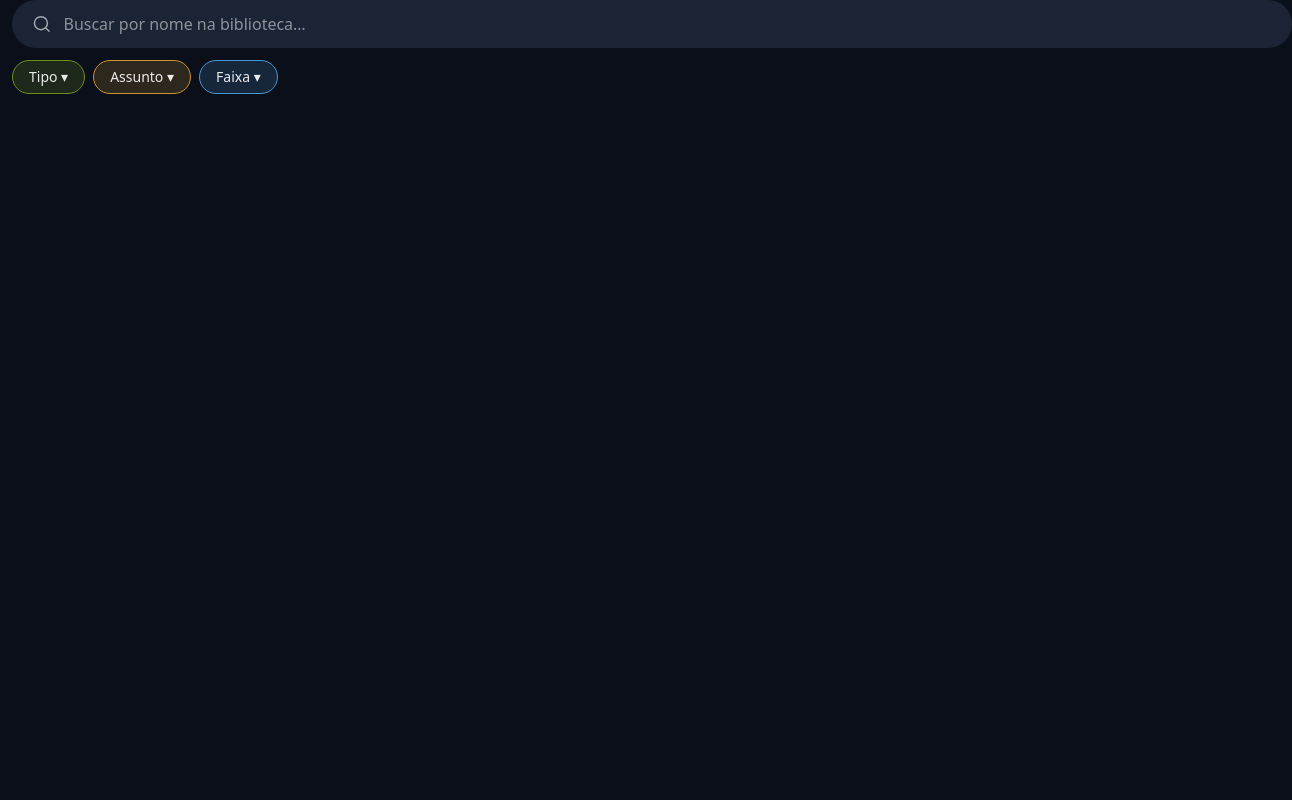
TagFilterBar › o menu fecha ao clicar fora e com Esc; abrir outro tipo fecha o anterior
Step 1. Click the button "Assunto ▾" → [142, 77], box top-left (93, 60), bottom-right (191, 94)
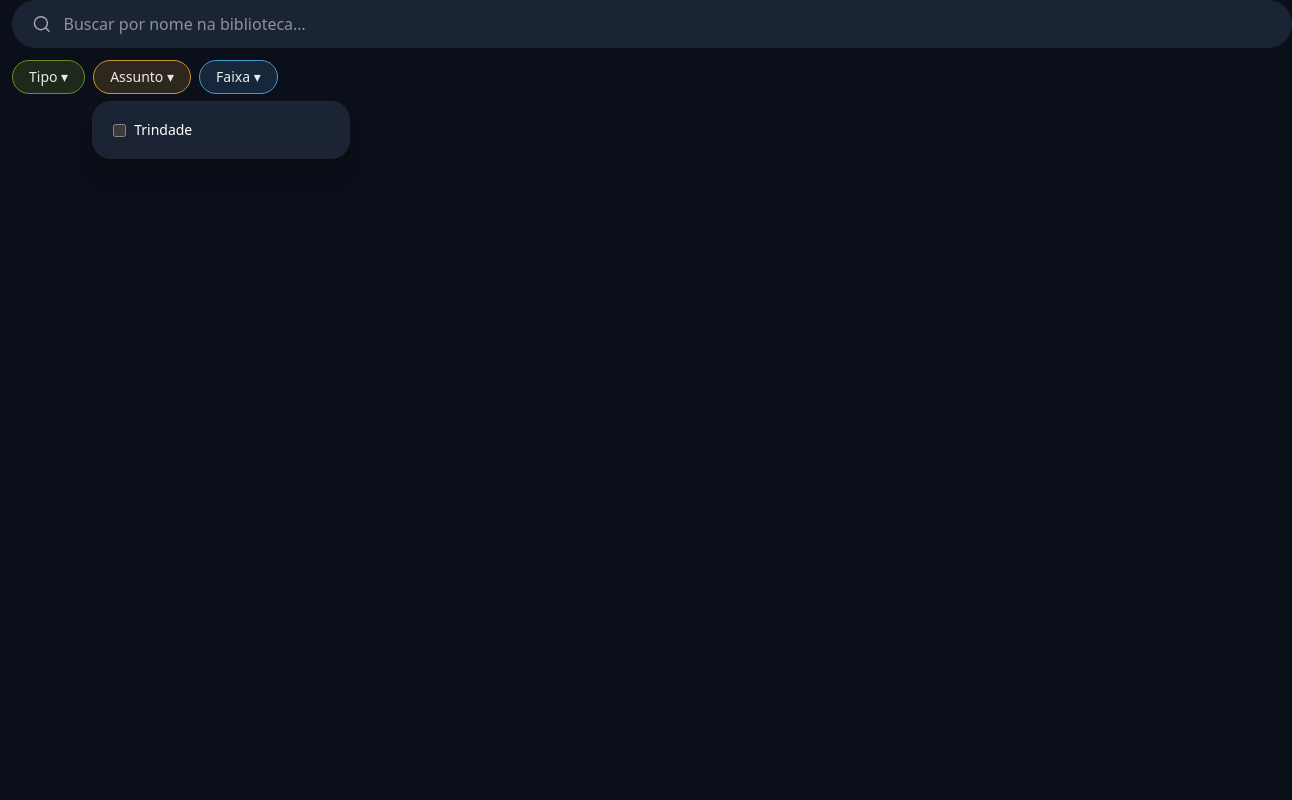
Expected: the checkbox labelled "Trindade" is shown, top-left (113, 124), bottom-right (126, 136)
Step 2. Click the button "Faixa ▾" → [238, 77], box top-left (199, 60), bottom-right (278, 94)
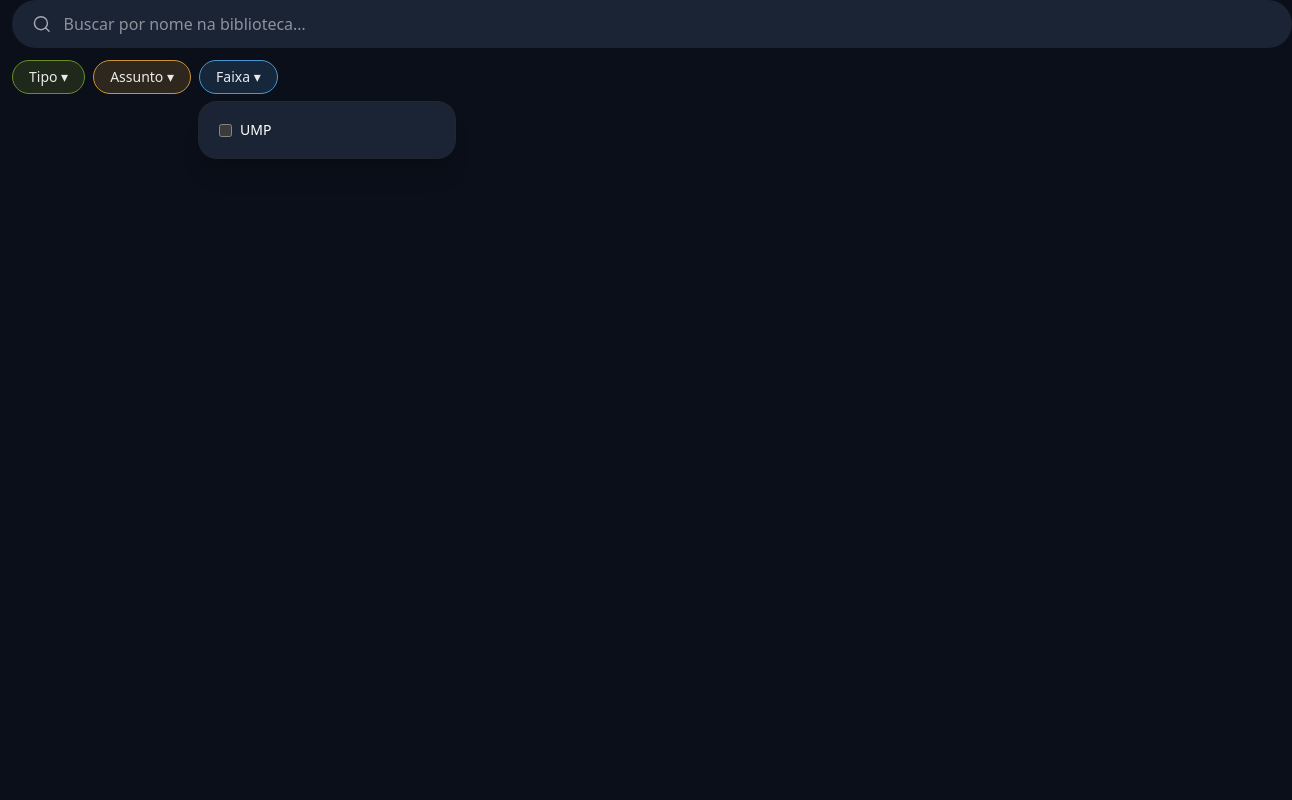
Expected: the checkbox labelled "UMP" is shown, top-left (219, 124), bottom-right (232, 136)
Expected: the label "Trindade" is gone
Step 3. Press the mouse on the element showing "Tipo ▾ Assunto ▾ Faixa ▾ UMP" → [652, 400], box top-left (12, 0), bottom-right (1291, 799)
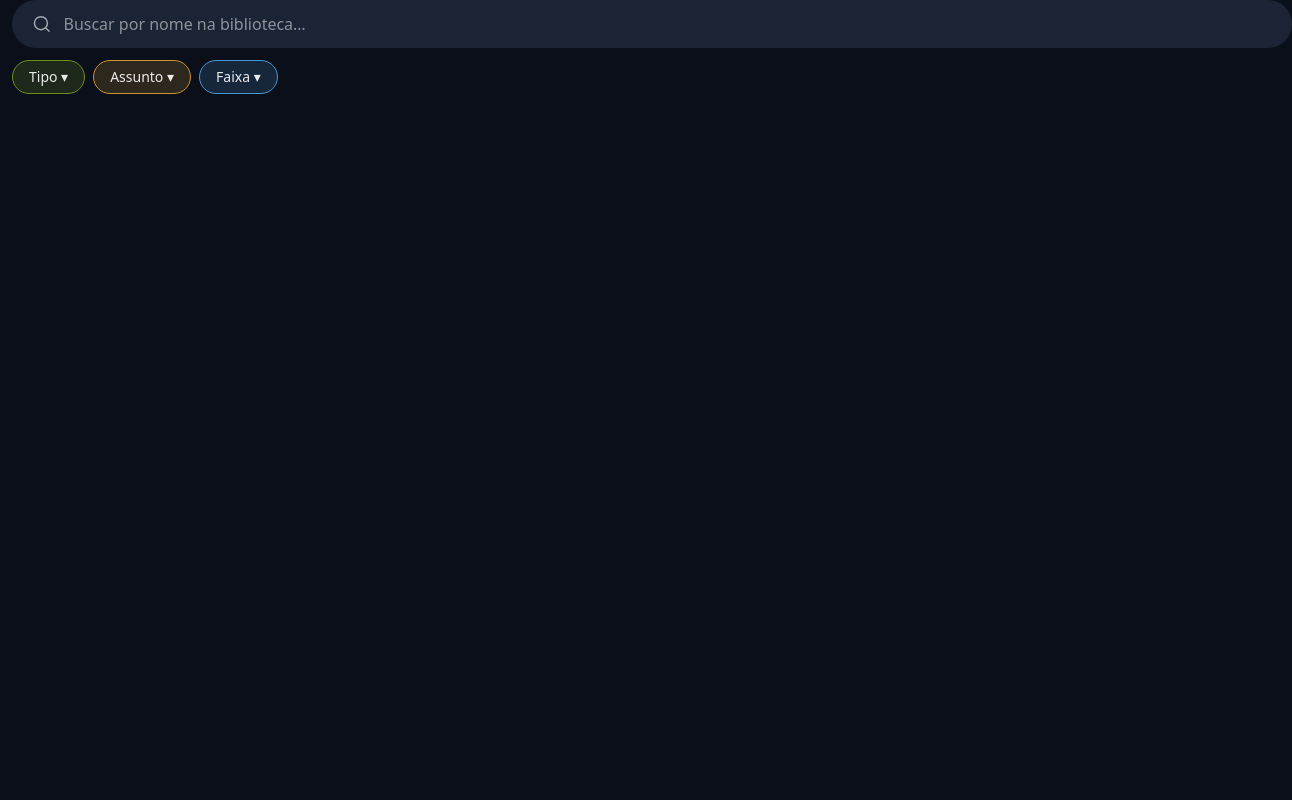
Expected: the label "UMP" is gone
Step 4. Click the button "Tipo ▾" → [49, 77], box top-left (12, 60), bottom-right (85, 94)
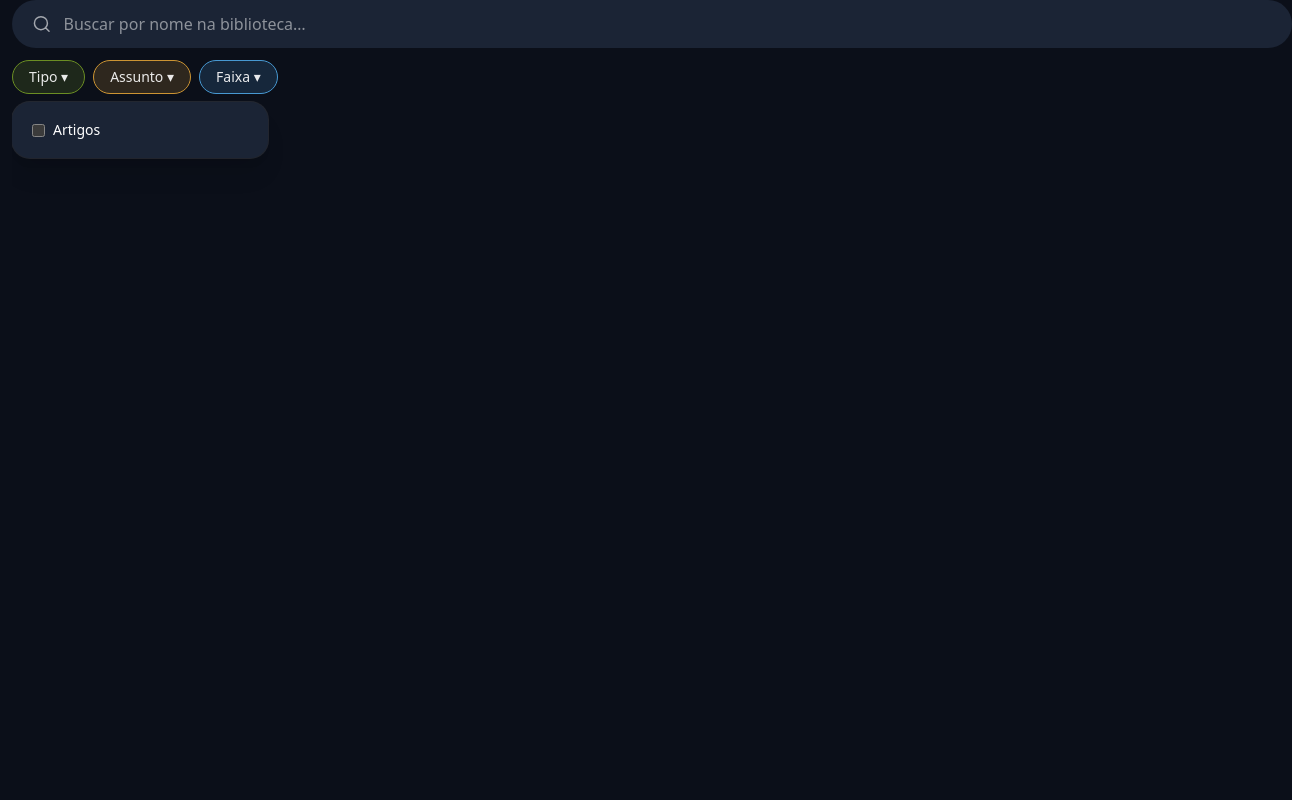
Step 5. Press Escape
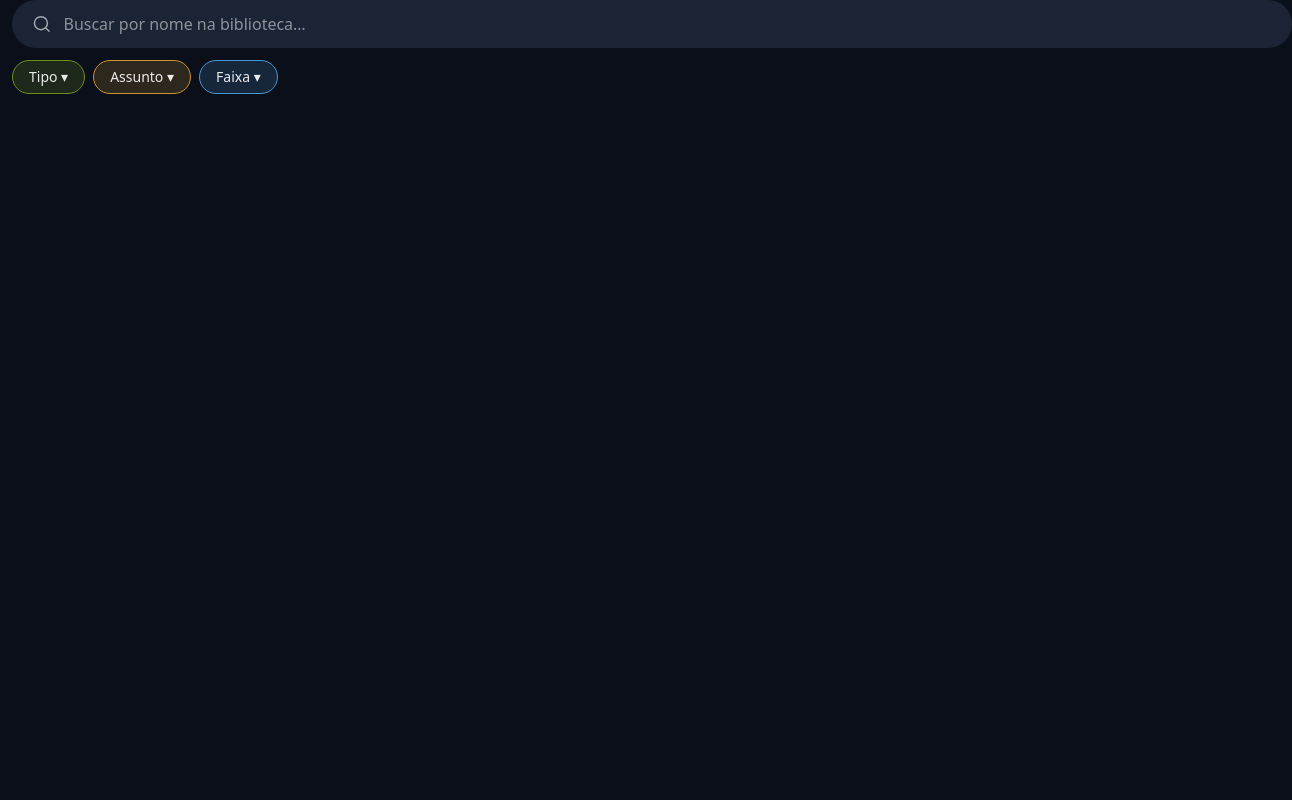
Expected: the label "Artigos" is gone
